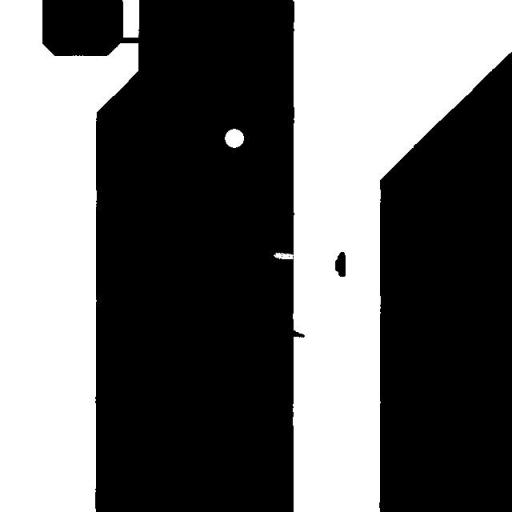copper: (327, 244, 353, 284)
mousebite: (266, 245, 300, 266)
short: (108, 30, 148, 50)
spur: (282, 322, 312, 344)
